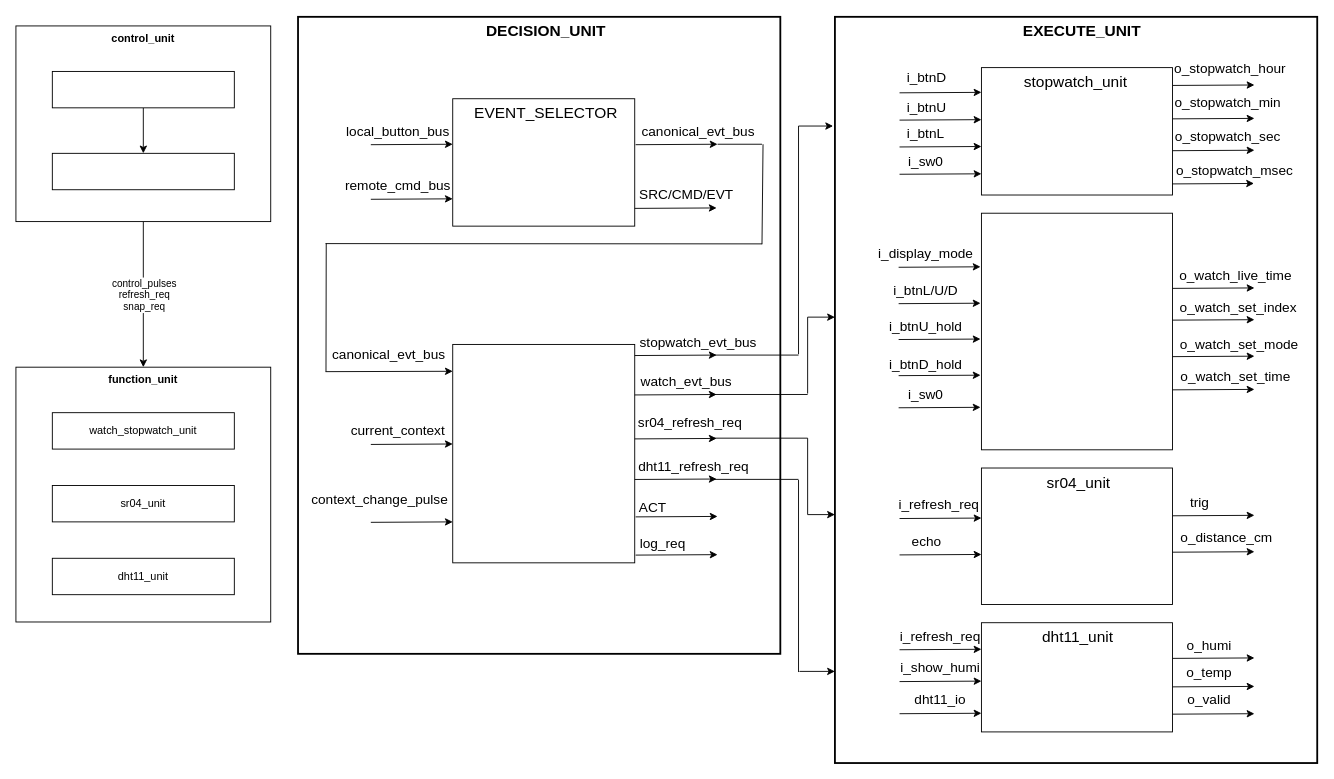
Some shapes in this 1334 by 779 pixel diagram are drawn without their labels. Here are the shapes that lost their labels. From the top down, the centre of each, then its label:
point 142,89: control_event_arbiter
point 142,171: context_event_dispatcher
point 1077,331: watch_unit
point 543,453: ACTION_DISPACTER
